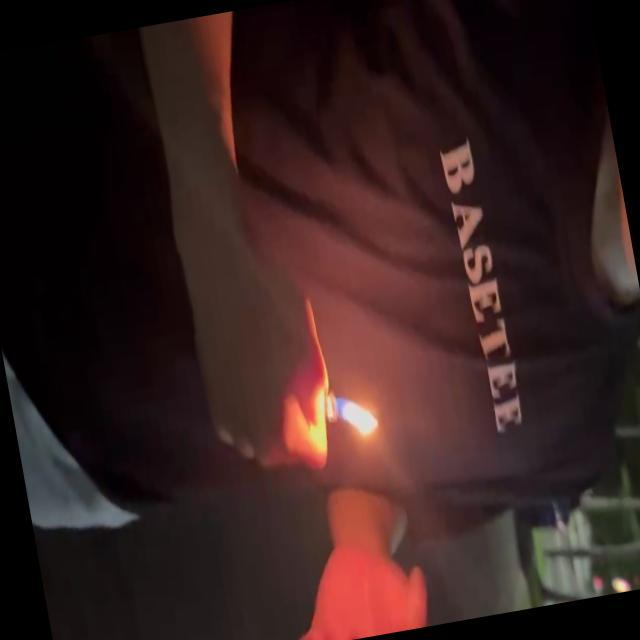Fire: (332, 383, 385, 448)
